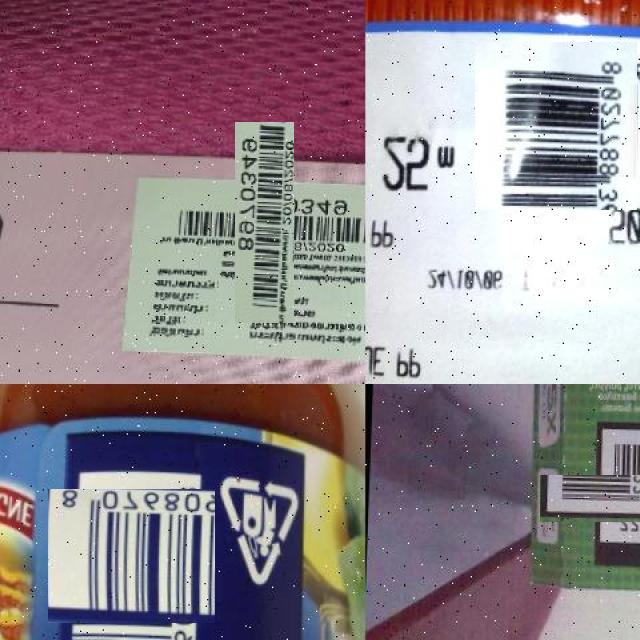Barcode: (473, 43, 639, 208), (56, 481, 207, 632), (199, 157, 329, 288), (566, 449, 640, 549)
